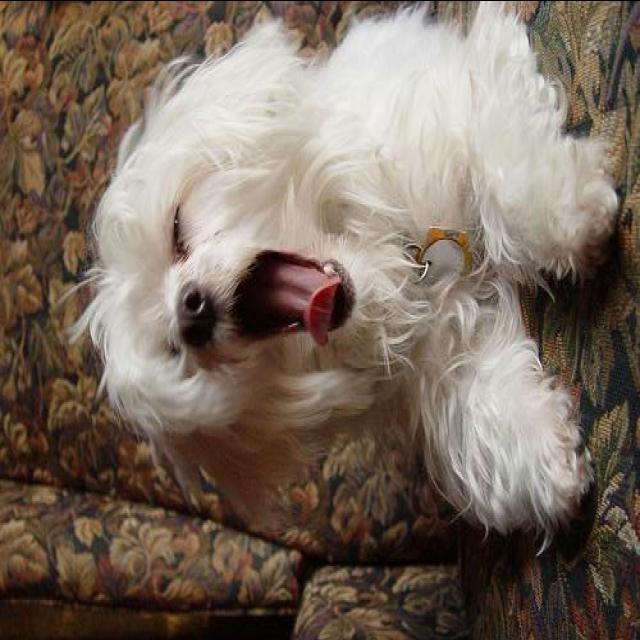maltese_dog: (74, 3, 616, 544)
